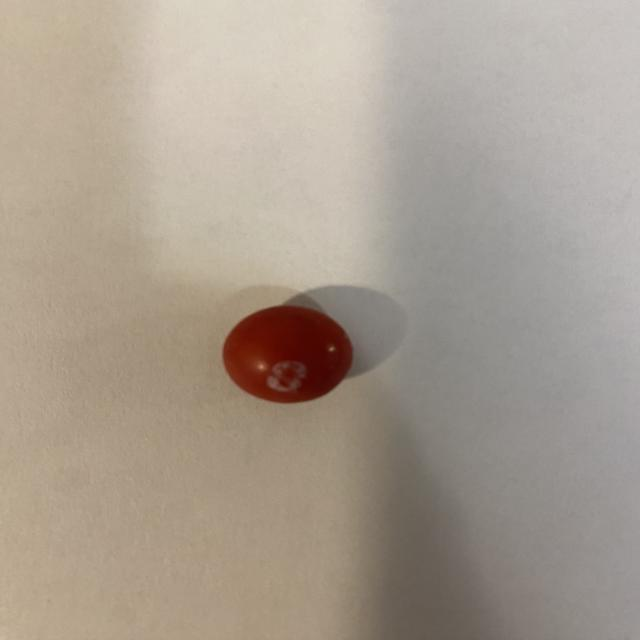smartie: (221, 305, 353, 407)
